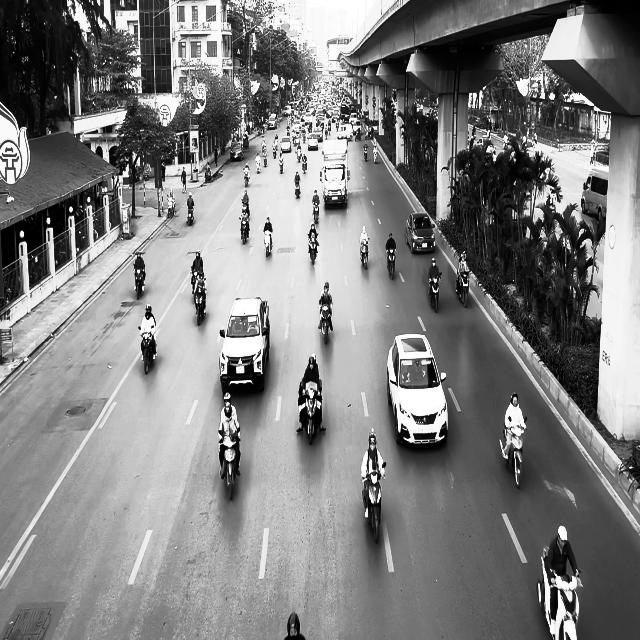car: (386, 332, 448, 446), (219, 296, 270, 392), (405, 212, 436, 254), (230, 141, 243, 161), (281, 136, 291, 152)
motorbike: (536, 548, 582, 640), (499, 416, 527, 489), (361, 462, 386, 542), (298, 380, 325, 444), (218, 432, 240, 500), (138, 326, 156, 374), (192, 280, 206, 325), (319, 300, 332, 344), (428, 273, 442, 312), (456, 272, 470, 308), (133, 264, 145, 300), (308, 232, 318, 265), (386, 247, 396, 279), (240, 216, 250, 244), (359, 240, 369, 268), (264, 228, 272, 256), (312, 201, 320, 223), (167, 196, 175, 217), (294, 177, 301, 198), (187, 205, 194, 225), (204, 167, 212, 182), (243, 170, 250, 187), (363, 142, 368, 160), (279, 155, 284, 173), (373, 146, 378, 163), (302, 157, 307, 172)
truck: (321, 138, 349, 207)
